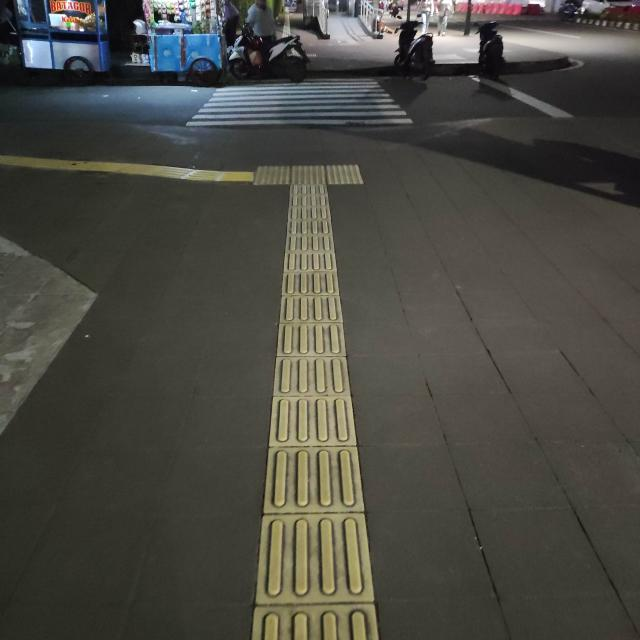kiri: (214, 148, 344, 208)
